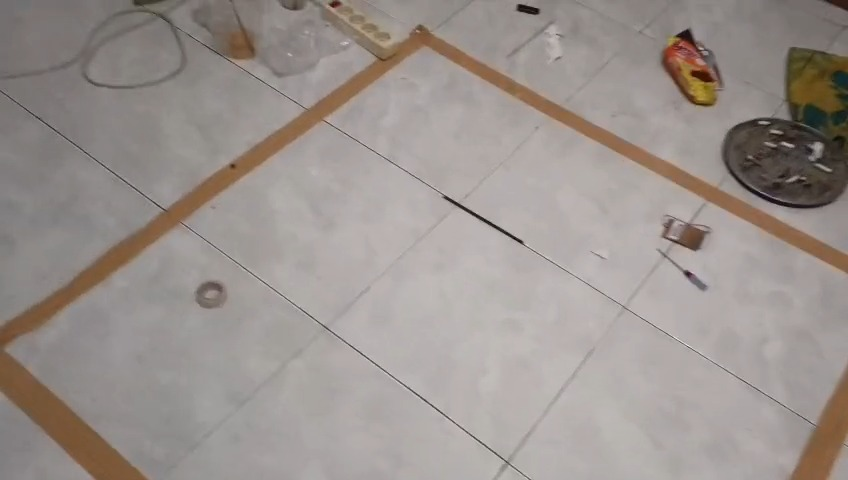floor marking: (0, 26, 847, 479), (792, 367, 847, 479)
